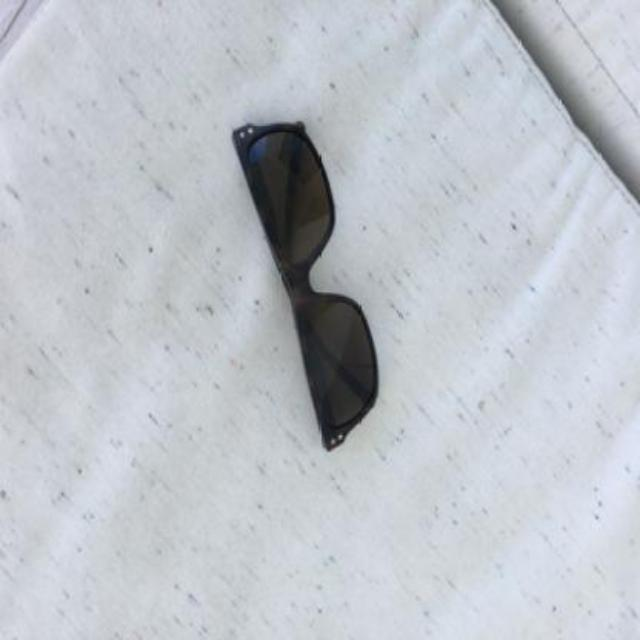glasses: (230, 120, 380, 450)
